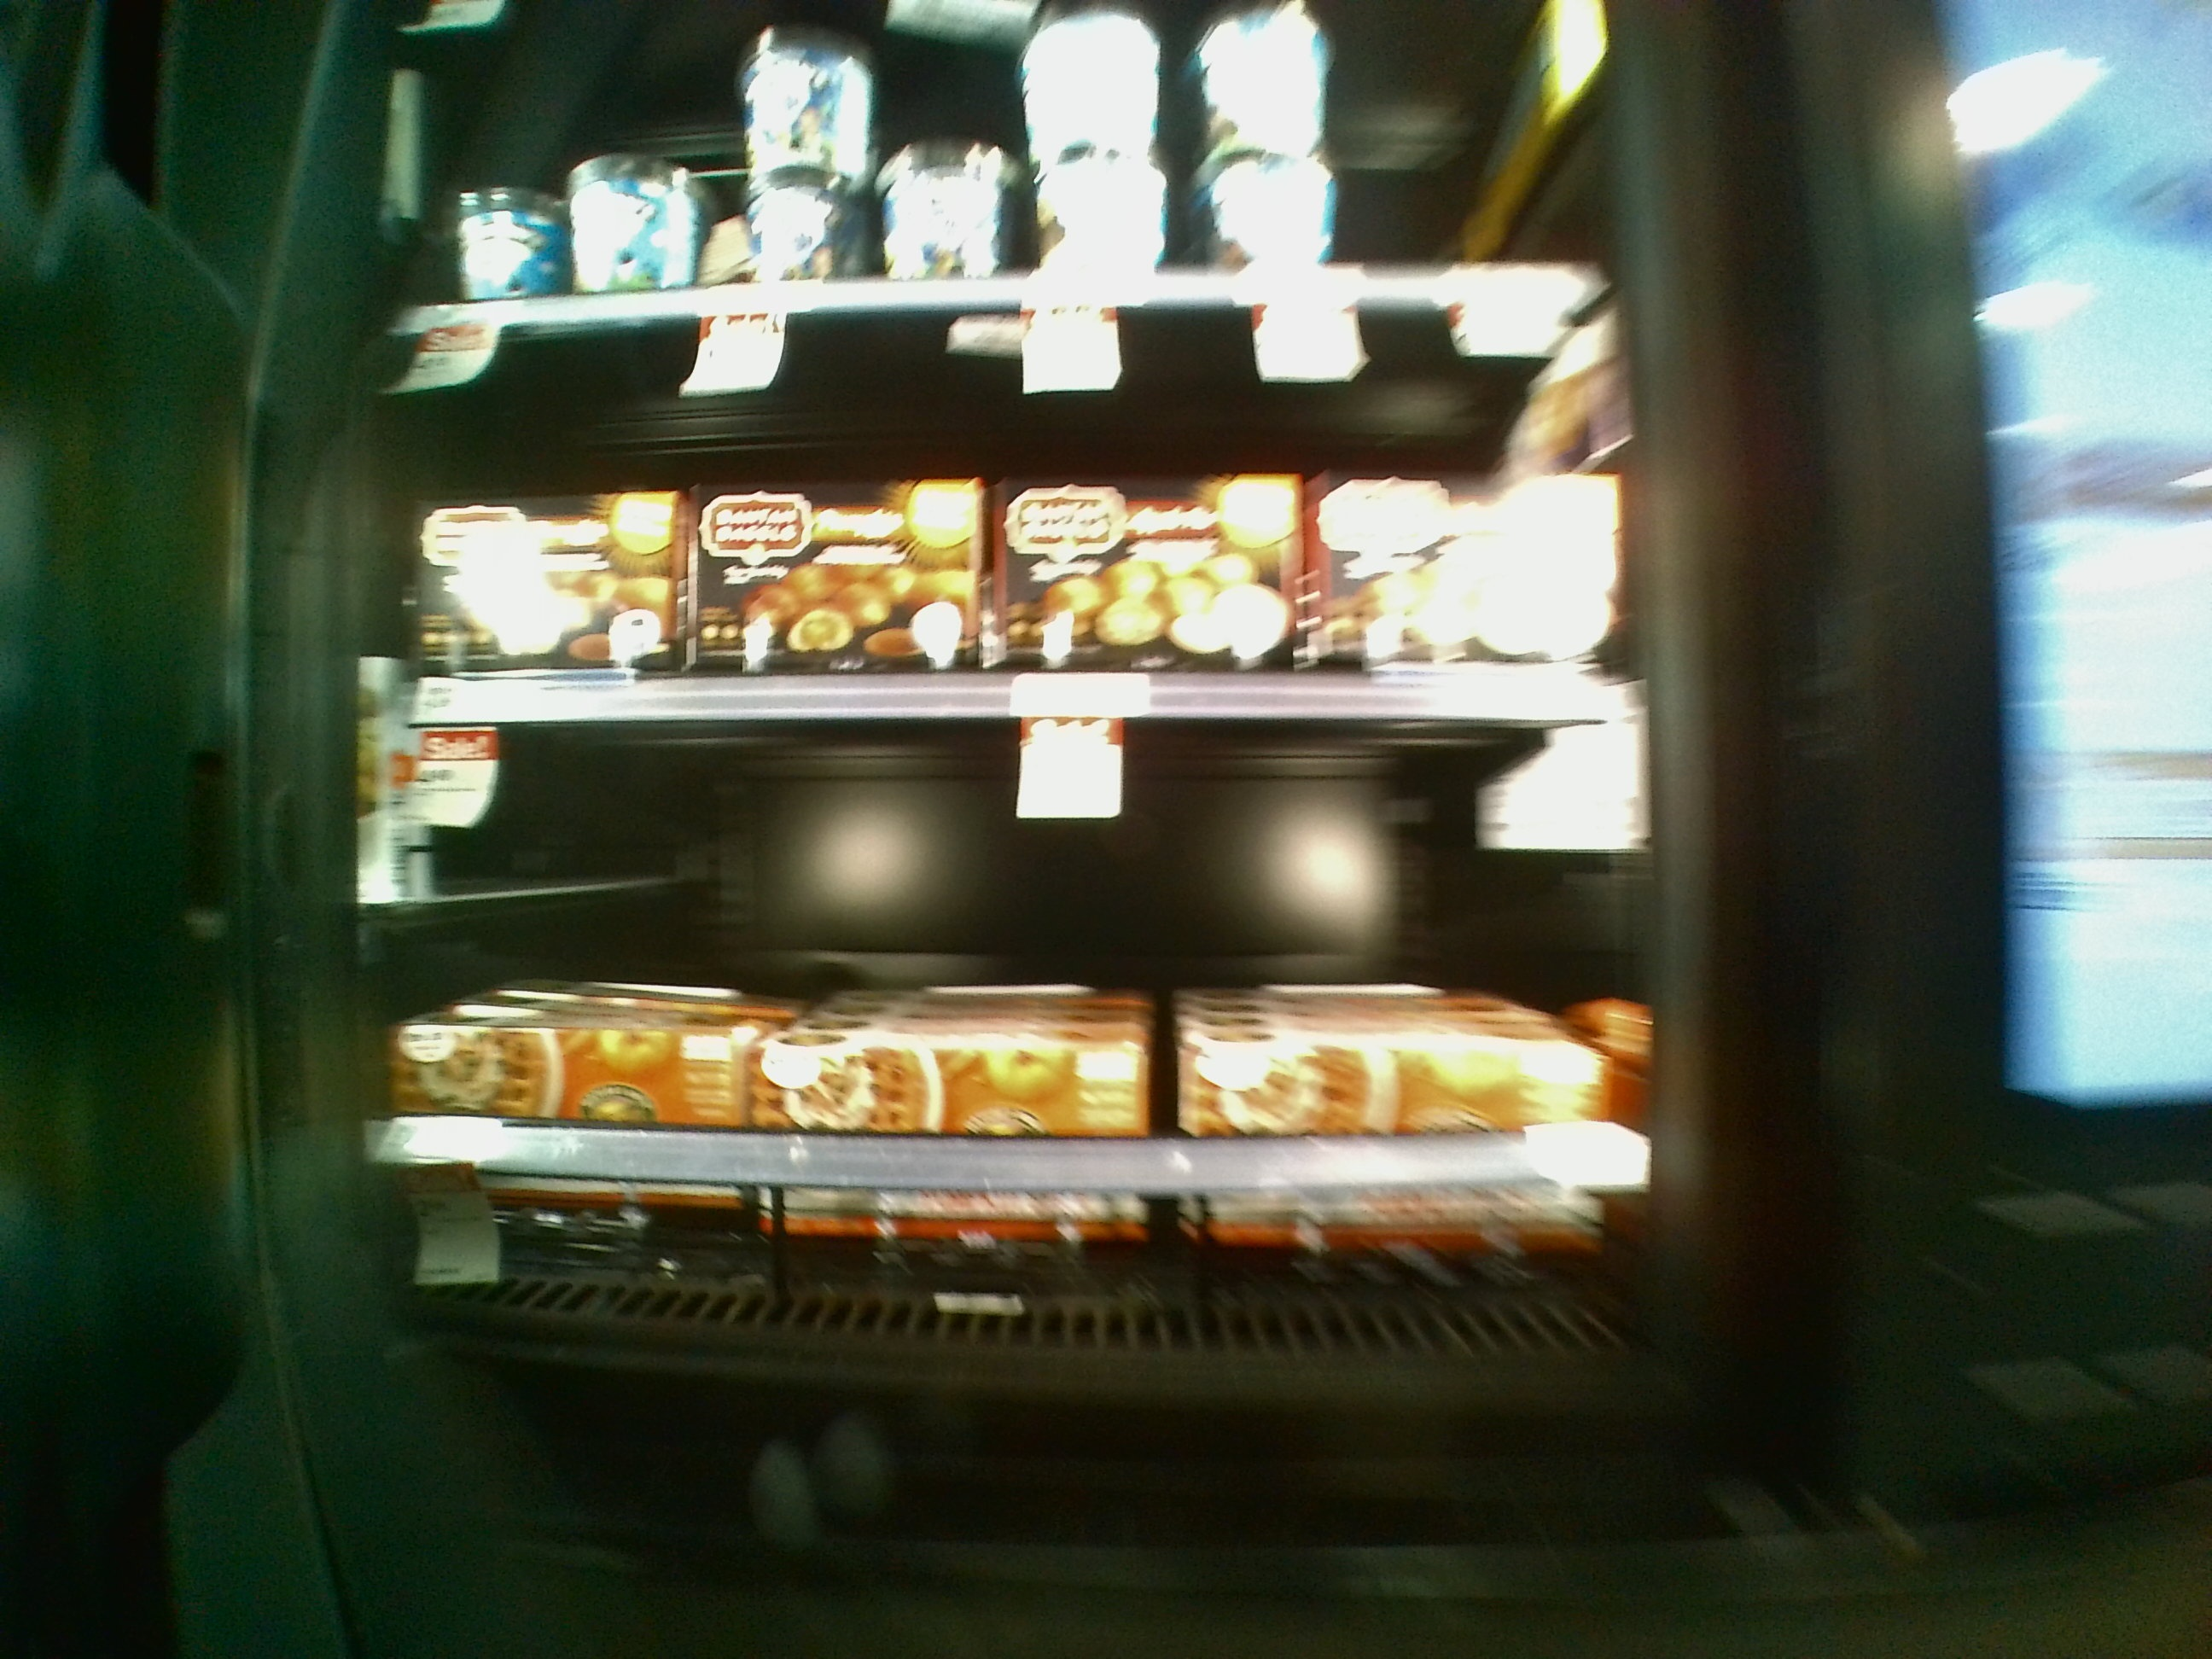shelf: (341, 701, 1684, 1384), (387, 314, 1658, 727)
